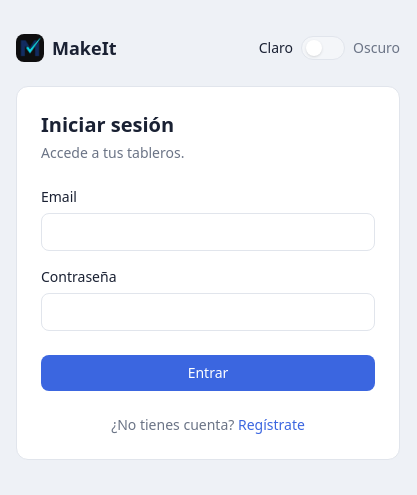
Test: LoginPage › muestra un error genérico con credenciales incorrectas
Type "ada@example.com" into the field labelled "Email".
click(208, 232); type("ada@example.com")  # box [41,213,375,251]
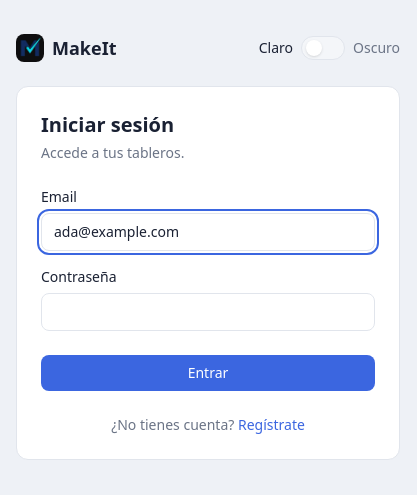
Type "incorrecta" into the password field labelled "Contraseña".
click(208, 312); type("incorrecta")  # box [41,293,375,331]
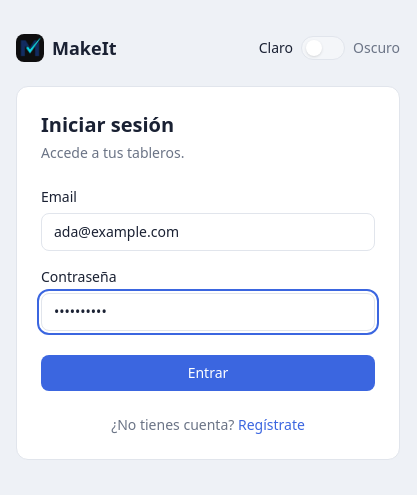
Click the button "Entrar".
click(208, 373)  # box [41,355,375,391]
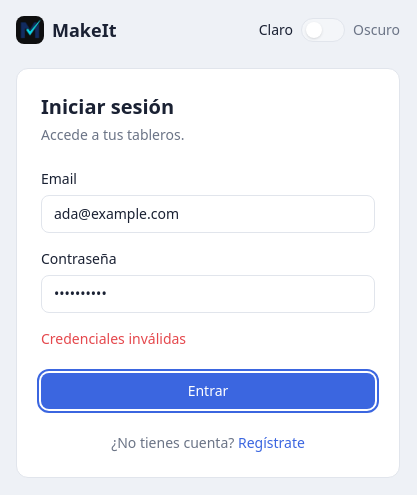
Expected: the message reads "Credenciales inválidas", [41,329,186,348]
